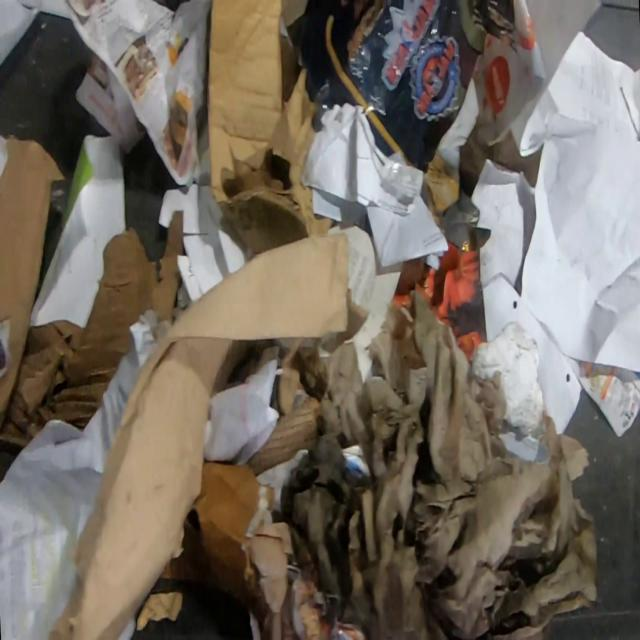cardboard: (46, 231, 349, 640), (0, 210, 185, 451), (206, 0, 336, 262), (0, 136, 66, 440), (158, 182, 247, 303), (244, 392, 322, 478), (280, 17, 307, 101), (281, 0, 310, 29)
soft_plastic: (310, 0, 463, 132)
